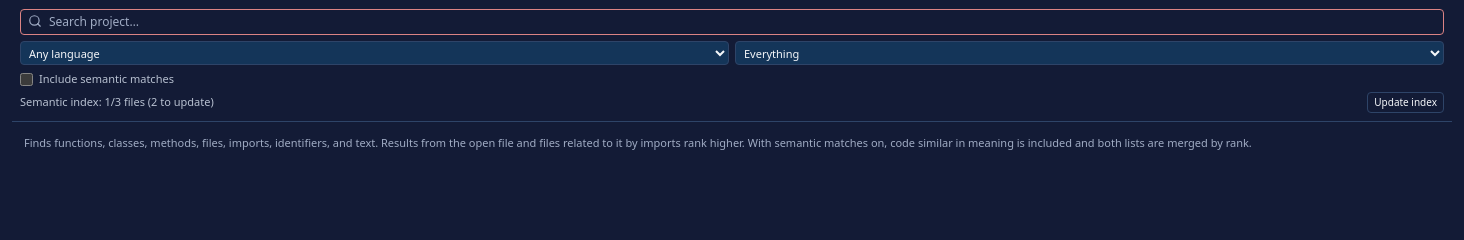
ProjectSearch semantic retrieval › shows fallback warnings and indexing errors
Click the button "Update index" at (1406, 102), box [1367, 92, 1444, 112]
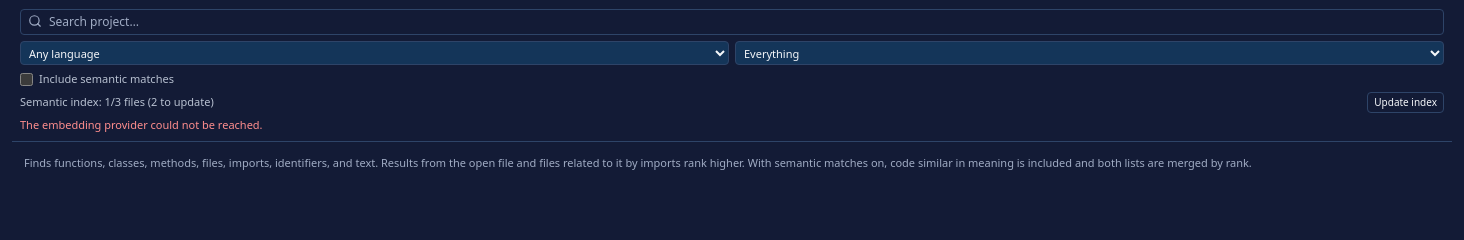
expect the text "Semantic index: 1/3 files (2 to update)" is shown: met, box [20, 94, 214, 109]
expect the message reads "The embedding provider could not be reached.": met, box [20, 116, 263, 132]
Click the checkbox labelled "Include semantic matches" at (26, 79), box [20, 73, 33, 86]
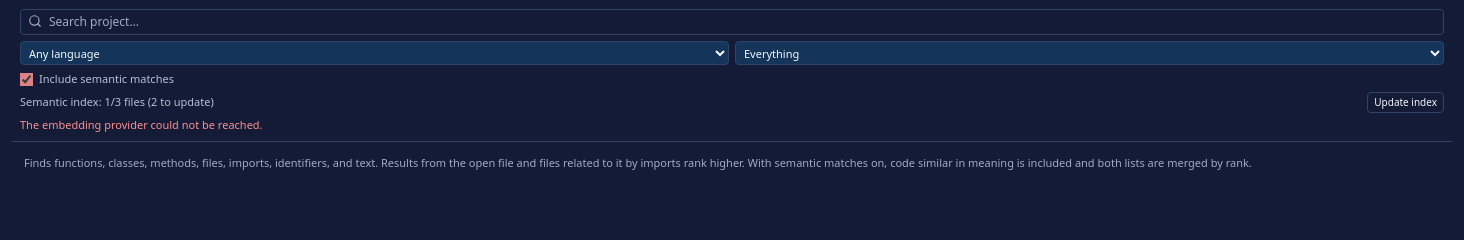
Type "password" into the search field labelled "Search project" at (732, 22), box [20, 9, 1444, 35]
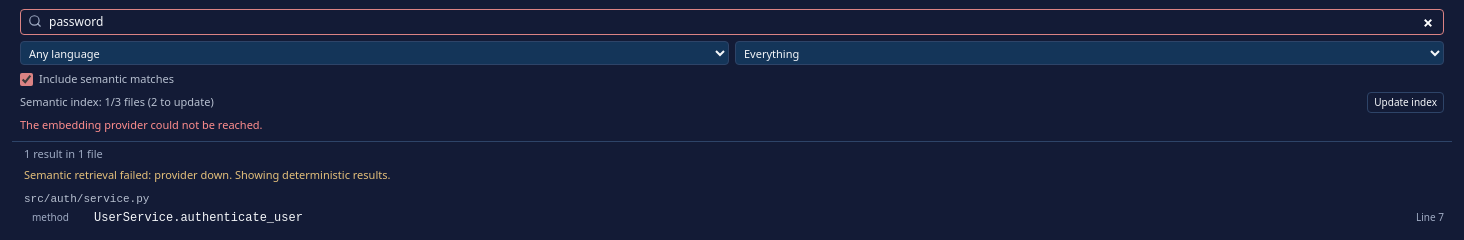
expect the list item "Semantic retrieval failed: provider down. Showing deterministic results." is shown: met, box [24, 166, 390, 182]
